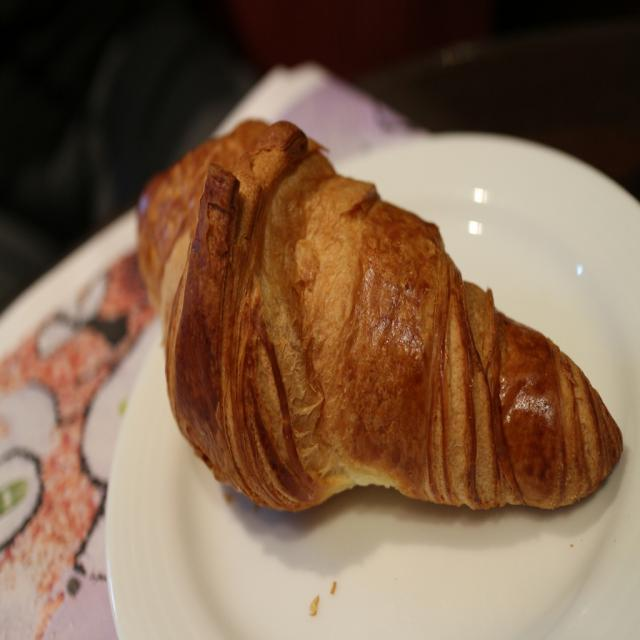Croissant: (135, 117, 620, 513)
